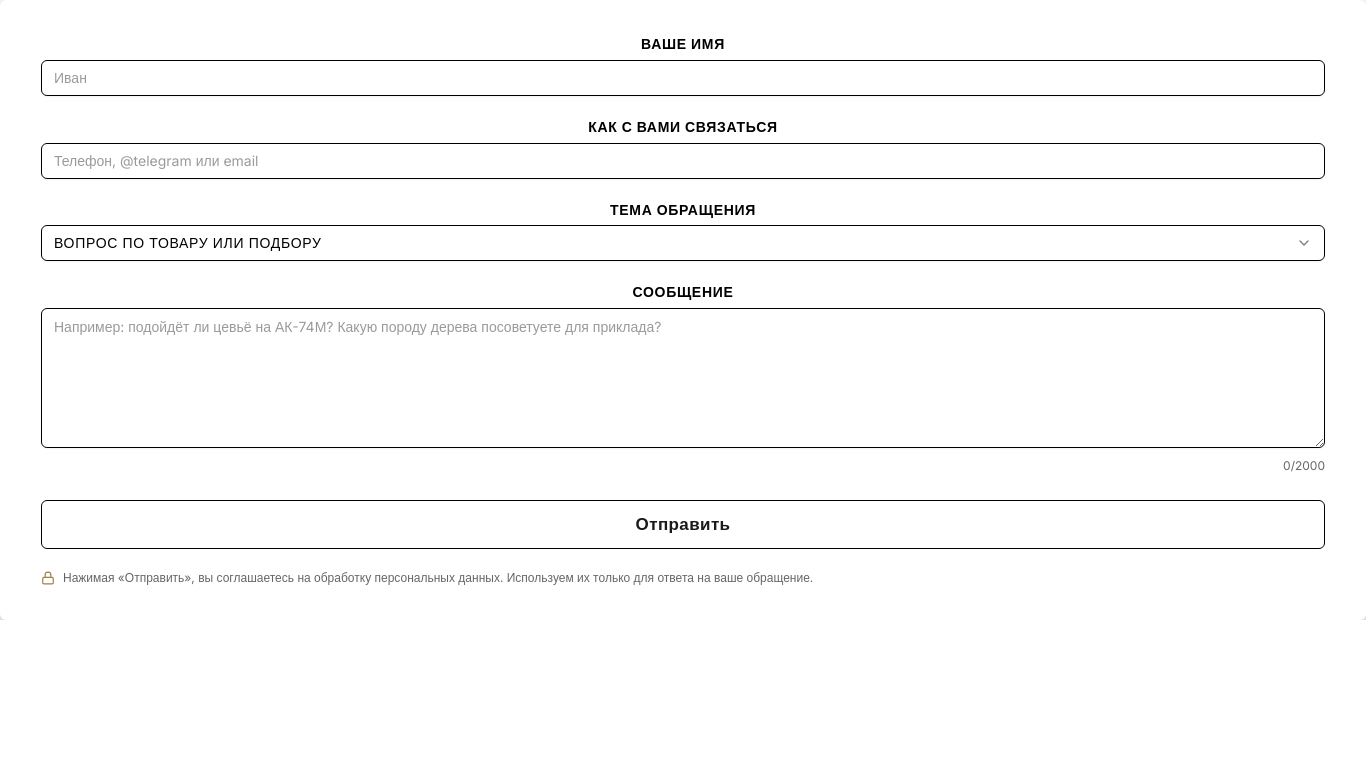
Test: ContactFormContainer › при пустой отправке показывает ошибки и фокусирует первое поле
Click the button "Отправить" at [683, 524], box [41, 500, 1325, 549]
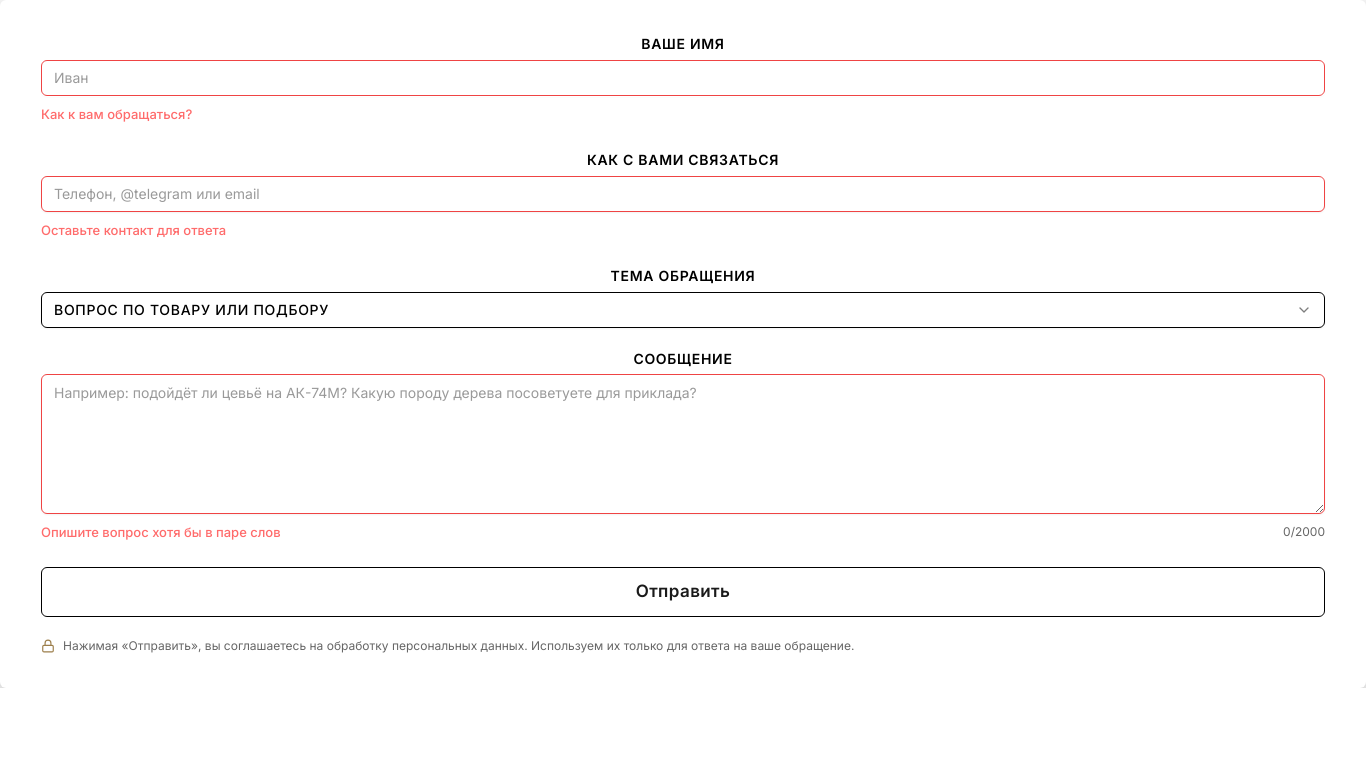
Result: the text "Как к вам обращаться?" is shown at [41, 106, 192, 122]
Result: the text "Оставьте контакт для ответа" is shown at [41, 222, 226, 238]
